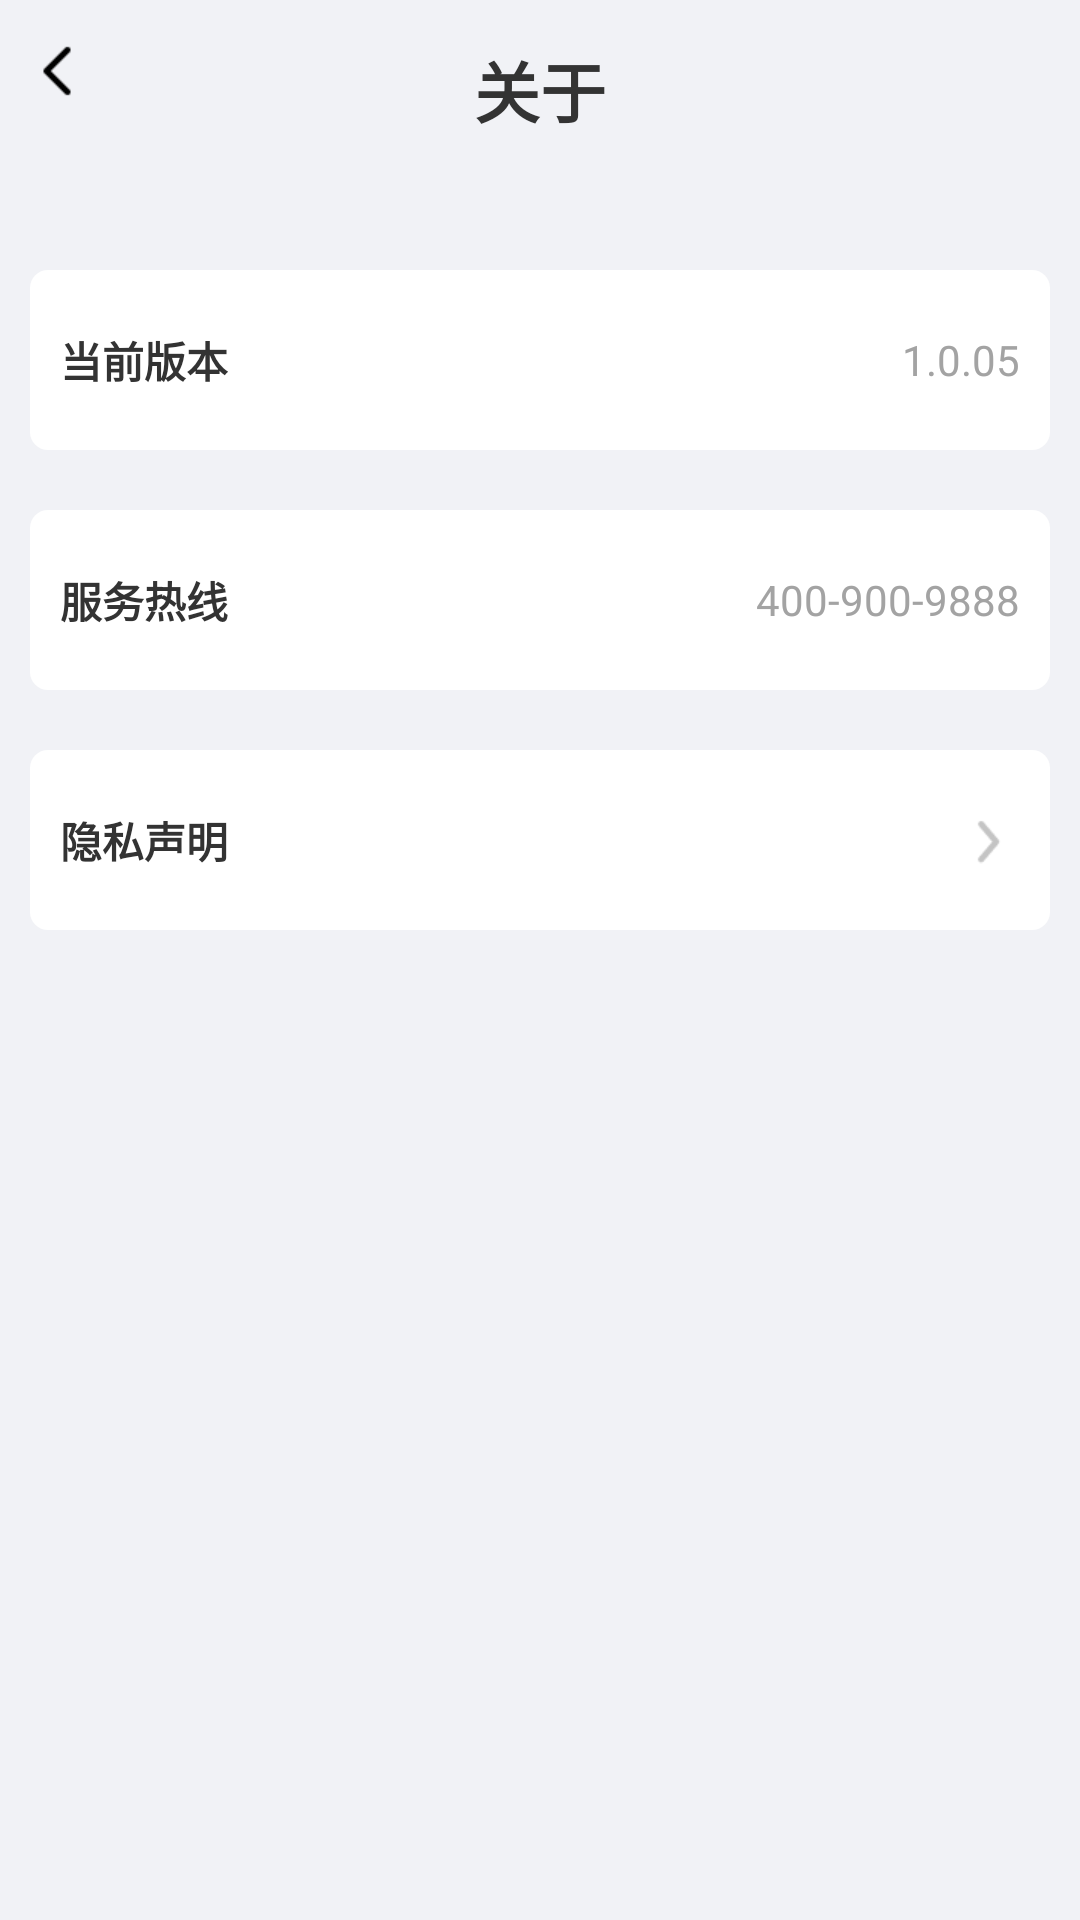

Screen size 1080w x 1920h. Icon name, then its box in pixels as (x1, y1, x2, y2):
back: (43, 46, 71, 96)
next: (978, 821, 999, 862)
